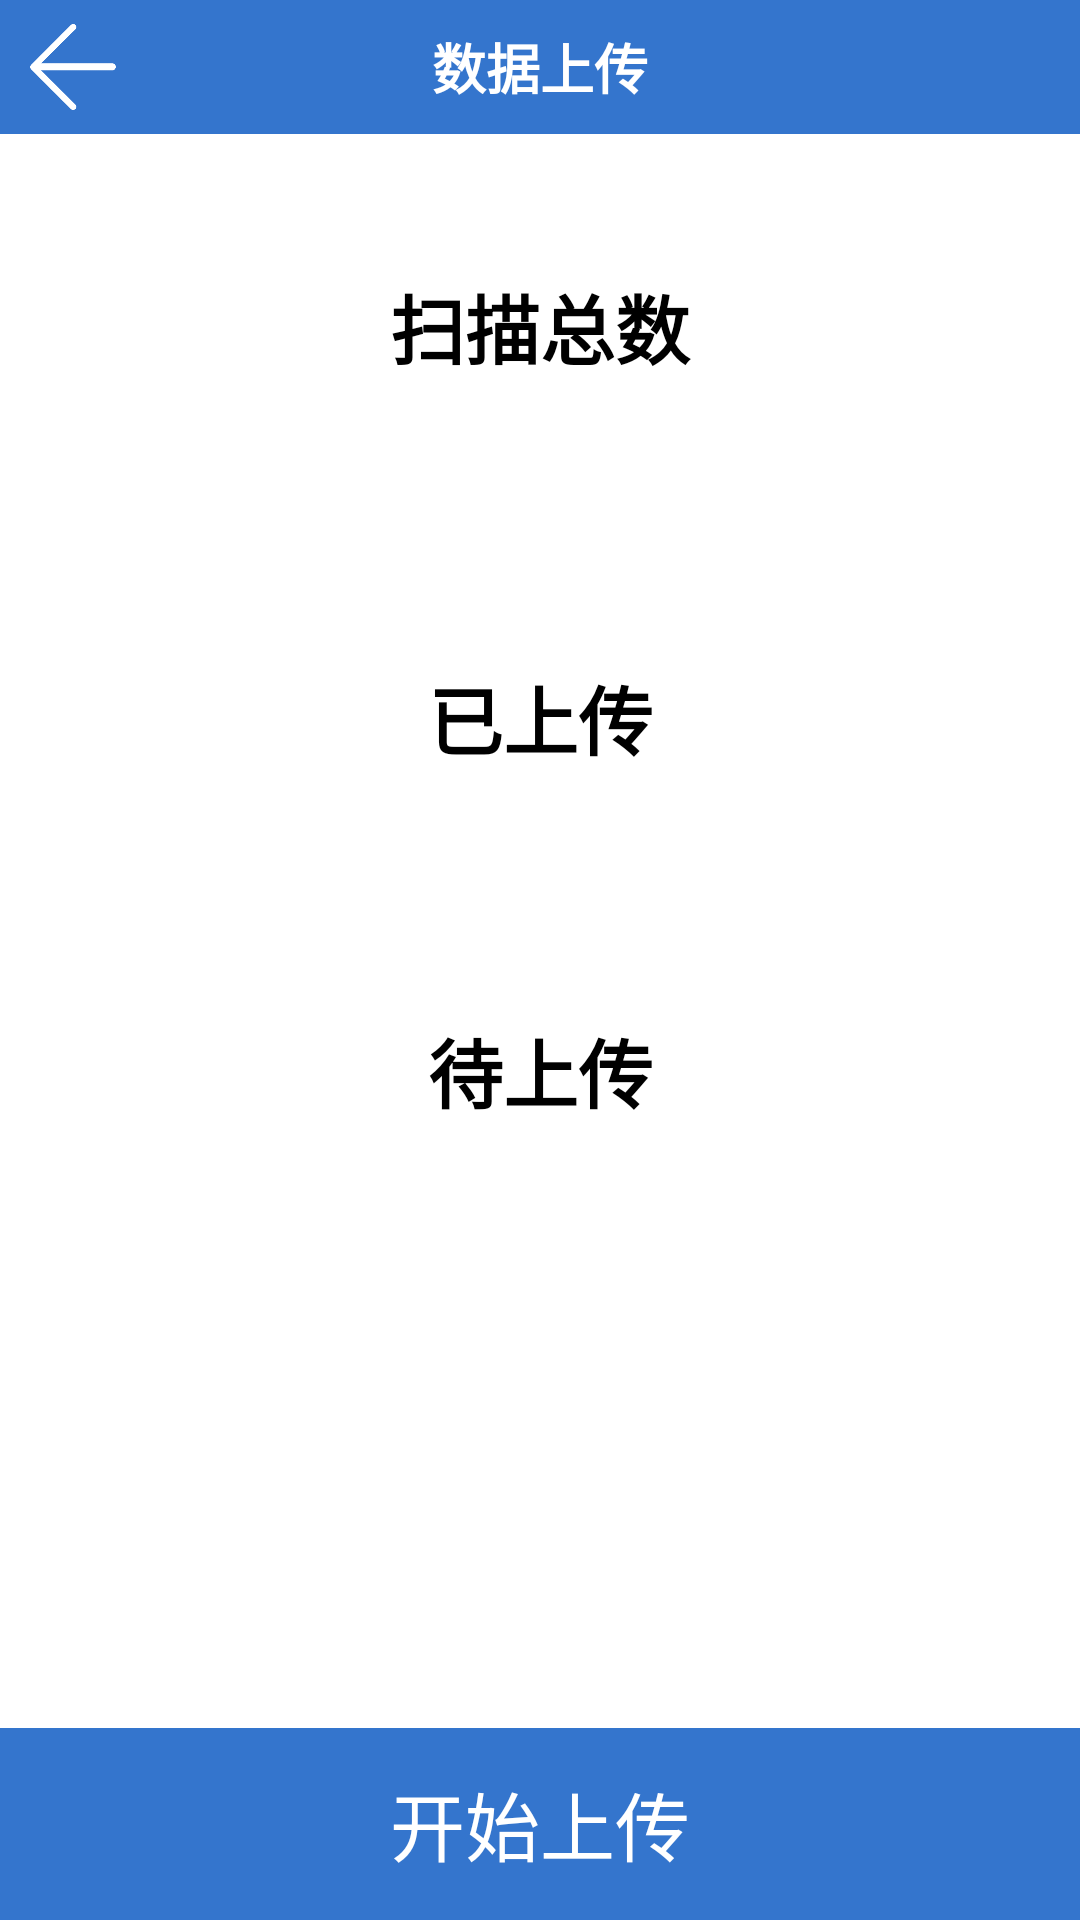

Where to tap for icons on this 1080x1920 app screen, as point (x, y):
back: point (73, 67)
